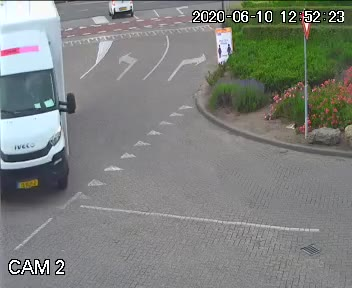car: (0, 0, 96, 216), (95, 0, 138, 21)
